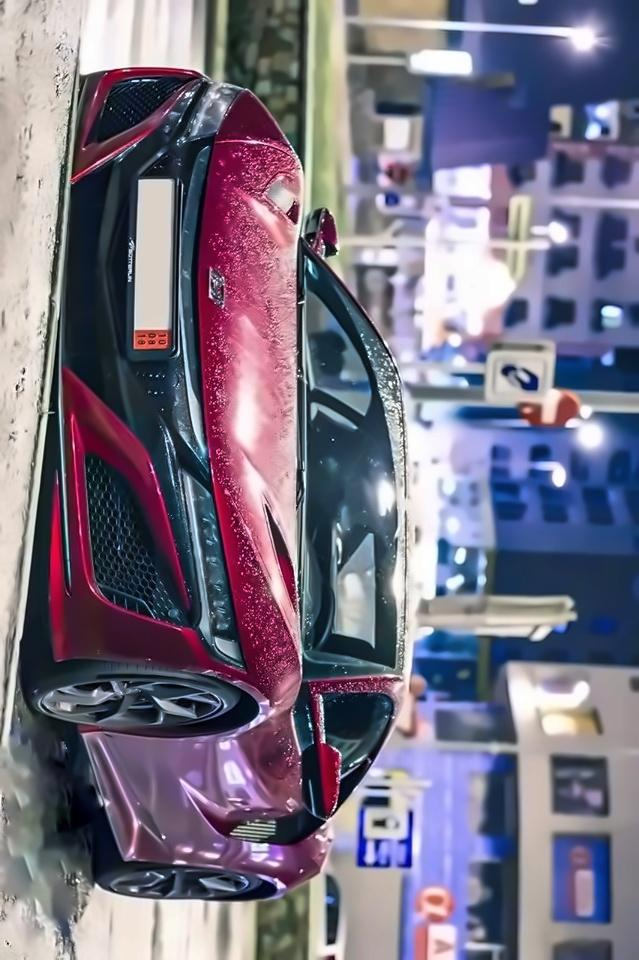Car hood: (194, 82, 318, 694)
Front bumper: (35, 62, 229, 680)
Headlight - -L-: (160, 425, 253, 669)
Passenger-s door - -F-L-: (51, 654, 449, 856)
Side bumper - -L-: (82, 644, 338, 746), (64, 715, 172, 877)
Side mirror - -L-: (289, 684, 349, 825)
Side mirror - -R-: (299, 197, 339, 268)
